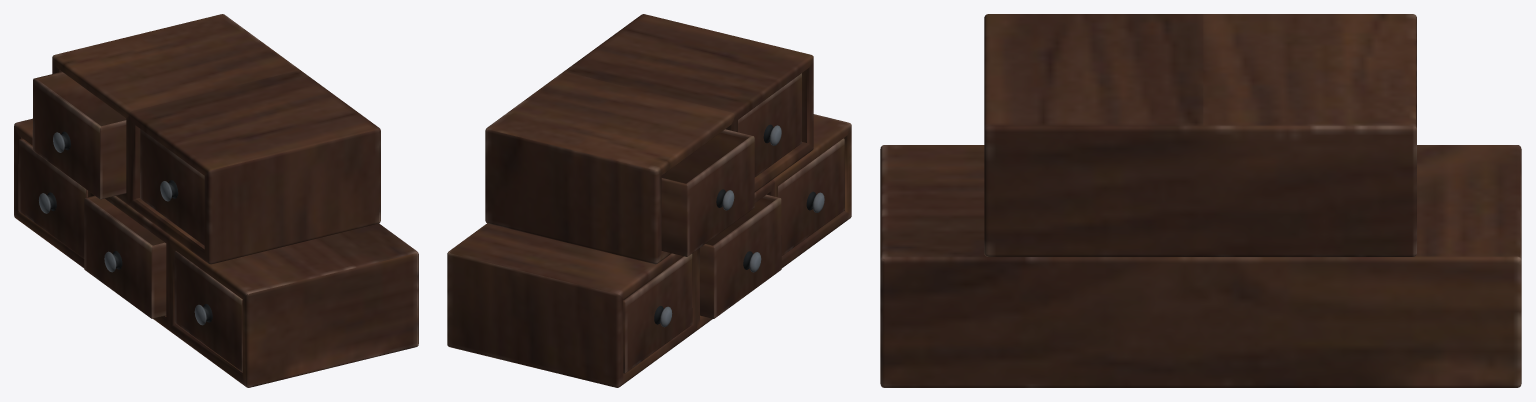
Rendered from SM_TillFrame_Pack2.fbx.
The picture shows the model from 3 angles, left to right: view 1: azimuth 30°, elevation 25°; view 2: azimuth 150°, elevation 25°; view 3: azimuth 270°, elevation 25°; orthographic projection. The views are drawn at different scales.
Visible parts, largest first — view 1: SM_TillFrame_Pack2_LOD0; view 2: SM_TillFrame_Pack2_LOD0; view 3: SM_TillFrame_Pack2_LOD0.
Boxes of the visible parts, x1,y1,x2,y2 form: SM_TillFrame_Pack2_LOD0: [14, 14, 418, 387]; SM_TillFrame_Pack2_LOD0: [447, 14, 851, 387]; SM_TillFrame_Pack2_LOD0: [880, 14, 1521, 387].
Size of the model in its own units: 35.85 by 70.19 by 31.6.
1 material, 1 textured.
